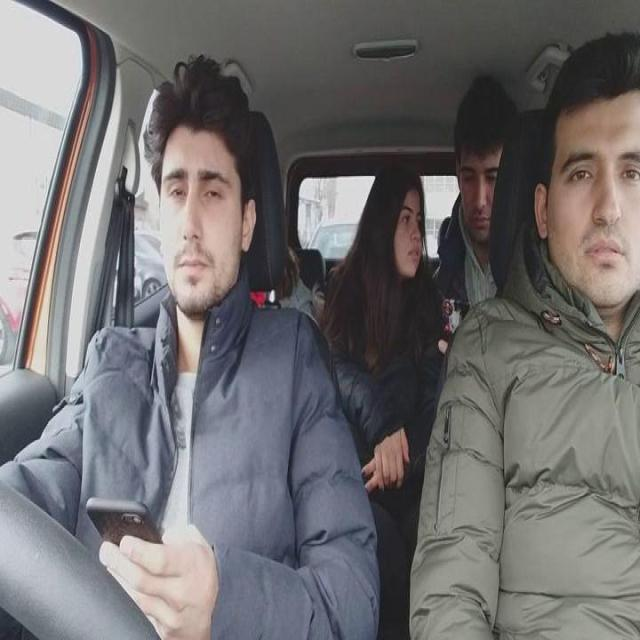phone: (86, 497, 163, 553)
